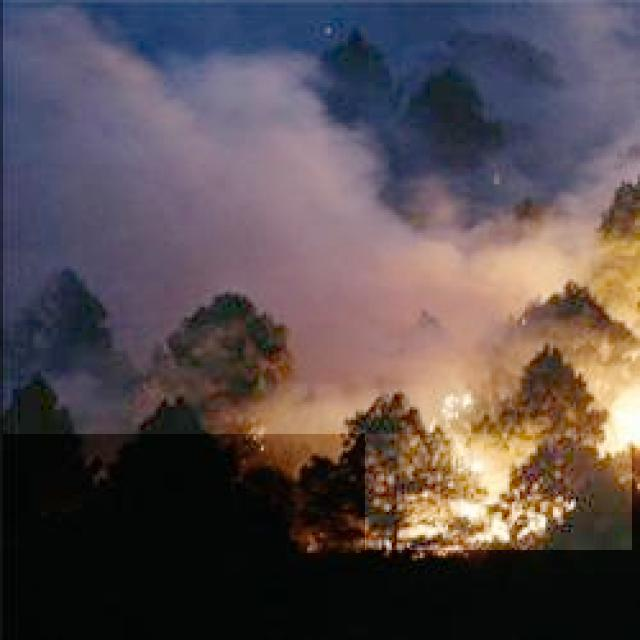Fire: (365, 335, 632, 550)
Smoke: (3, 0, 640, 434)
